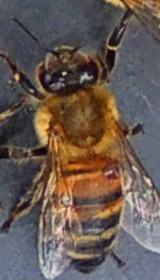varroa_mite: (95, 153, 126, 188)
